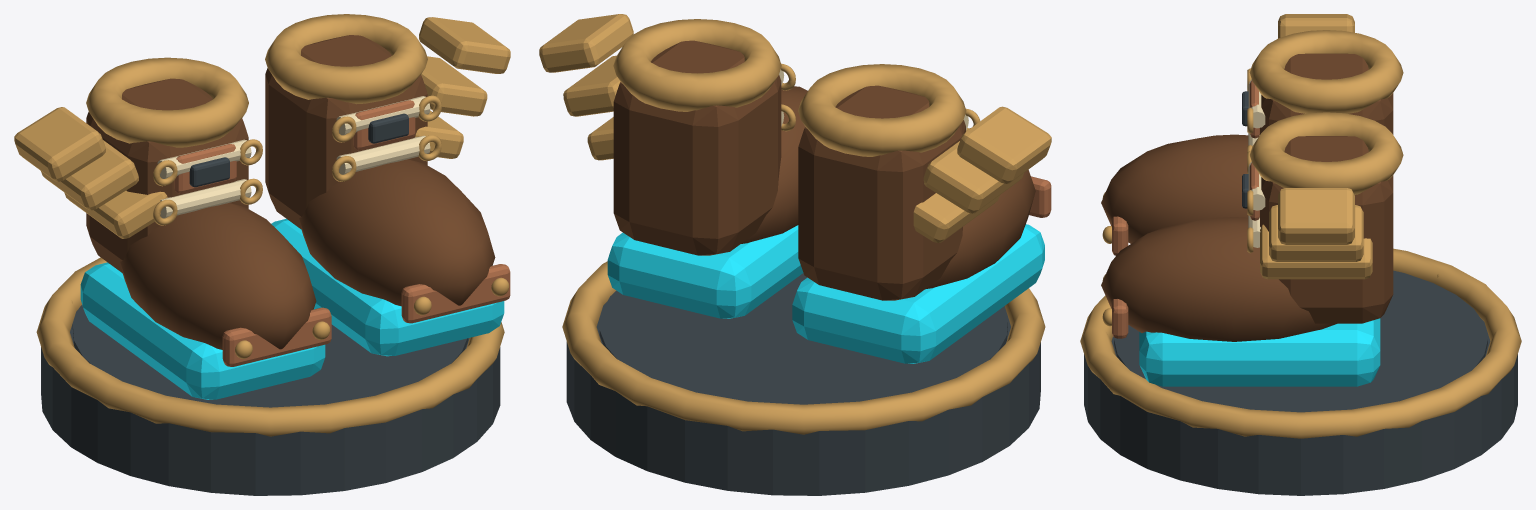
File: speed.glb
The picture shows the model from 3 angles, left to right: view 1: azimuth 30°, elevation 25°; view 2: azimuth 150°, elevation 25°; view 3: azimuth 270°, elevation 25°; orthographic projection. The views are drawn at different scales.
Parts seen in each view (by area): view 1: SM_UpgradeSpeed; view 2: SM_UpgradeSpeed; view 3: SM_UpgradeSpeed.
Boxes of the visible parts, box(x1,y1,x2,y2) form: SM_UpgradeSpeed: box(14, 14, 510, 495); SM_UpgradeSpeed: box(539, 14, 1051, 495); SM_UpgradeSpeed: box(1080, 14, 1521, 495).
Size of the model in its own units: 0.8341 by 0.5568 by 0.732.
